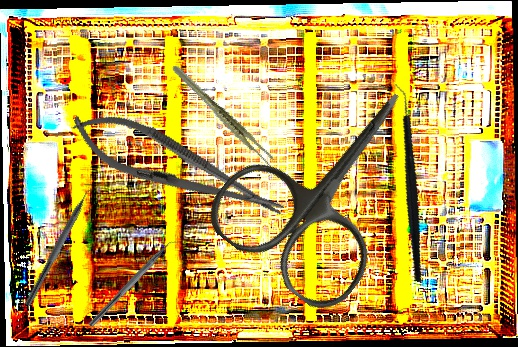Chopper: (341, 82, 473, 284), (24, 180, 102, 312), (88, 233, 183, 334)
Iris Scissors: (197, 45, 465, 321)
Needle Holder: (62, 97, 293, 238)
Tissue Forceps: (170, 49, 277, 181)
